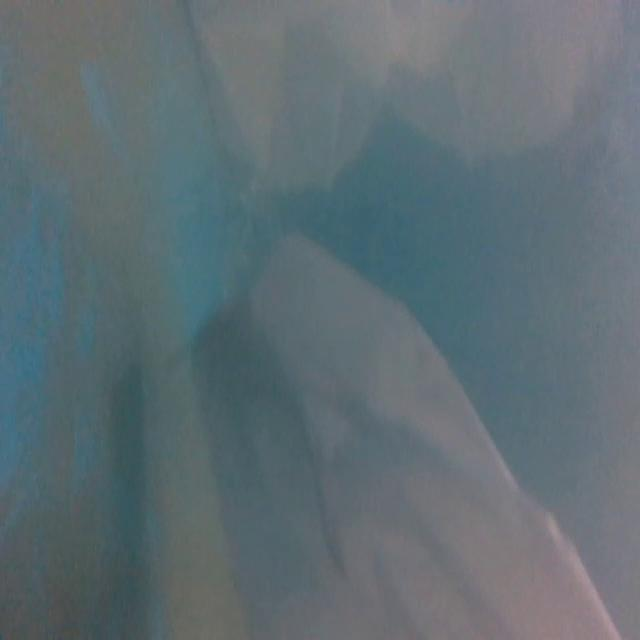plastic bags: (183, 230, 618, 638), (160, 0, 628, 204)
